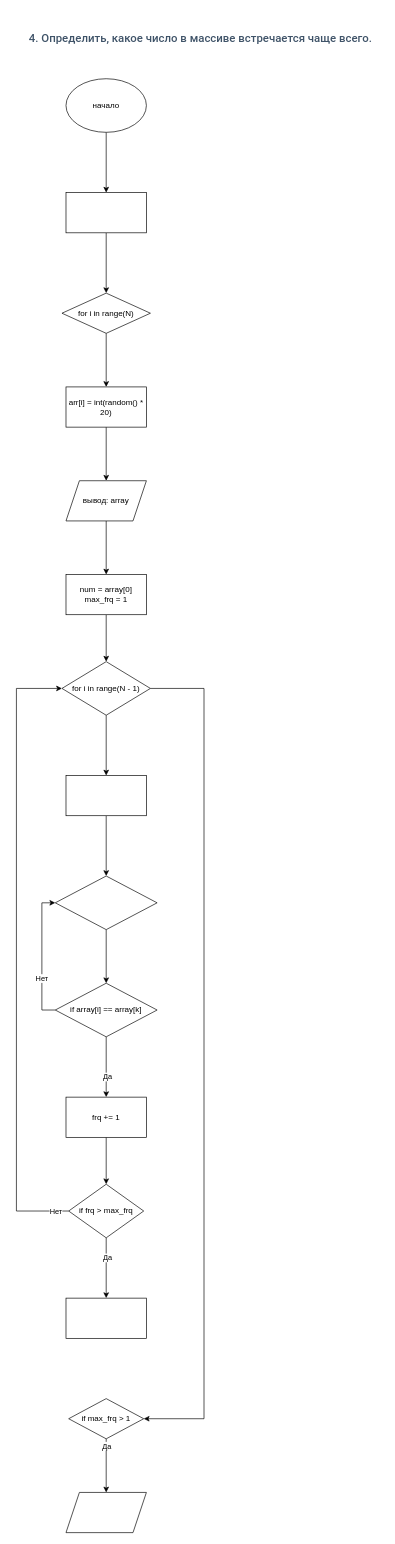
The diagram is 395 pixels wide and 1544 high, and some of its shapes have lost their labels. Each missing label, with the box of its shape:
for k in range(i + 1,N): (55, 875, 157, 930)
from random import random N = 15 array = [0] * N: (65, 192, 146, 233)
frq = 1: (65, 775, 146, 816)
max_frq = frq num = array[i]: (65, 1297, 146, 1338)
вывод: max_frq, num: (65, 1492, 146, 1533)
